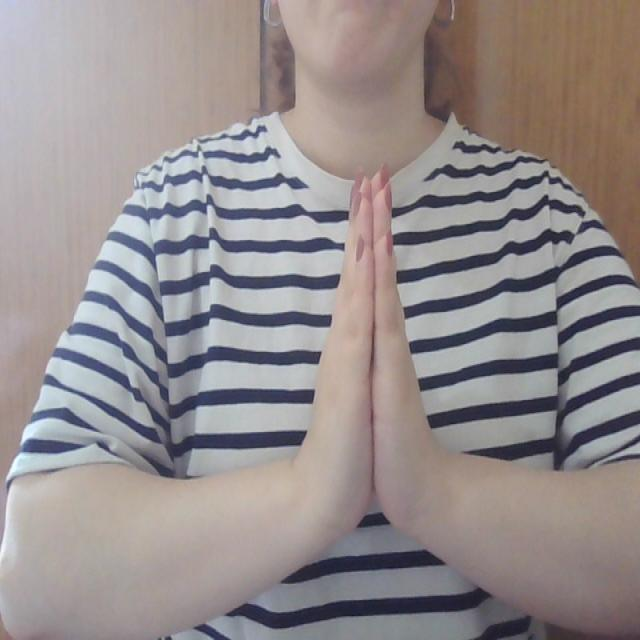Ozur-Dilemek: (304, 157, 441, 579)
